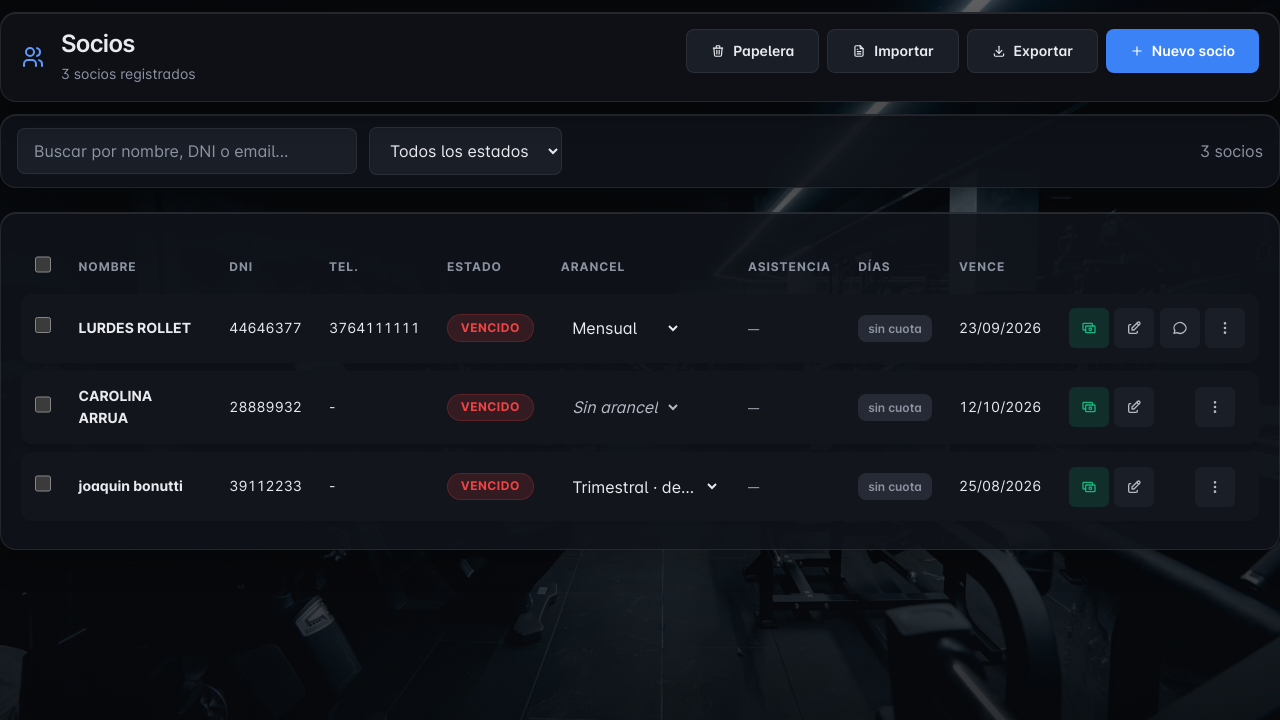
it: asignar el arancel a muchos de una vez › la barra aparece recién cuando hay algo marcado
Click the checkbox named "Seleccionar a LURDES ROLLET" at (43, 325), box [35, 317, 51, 333]
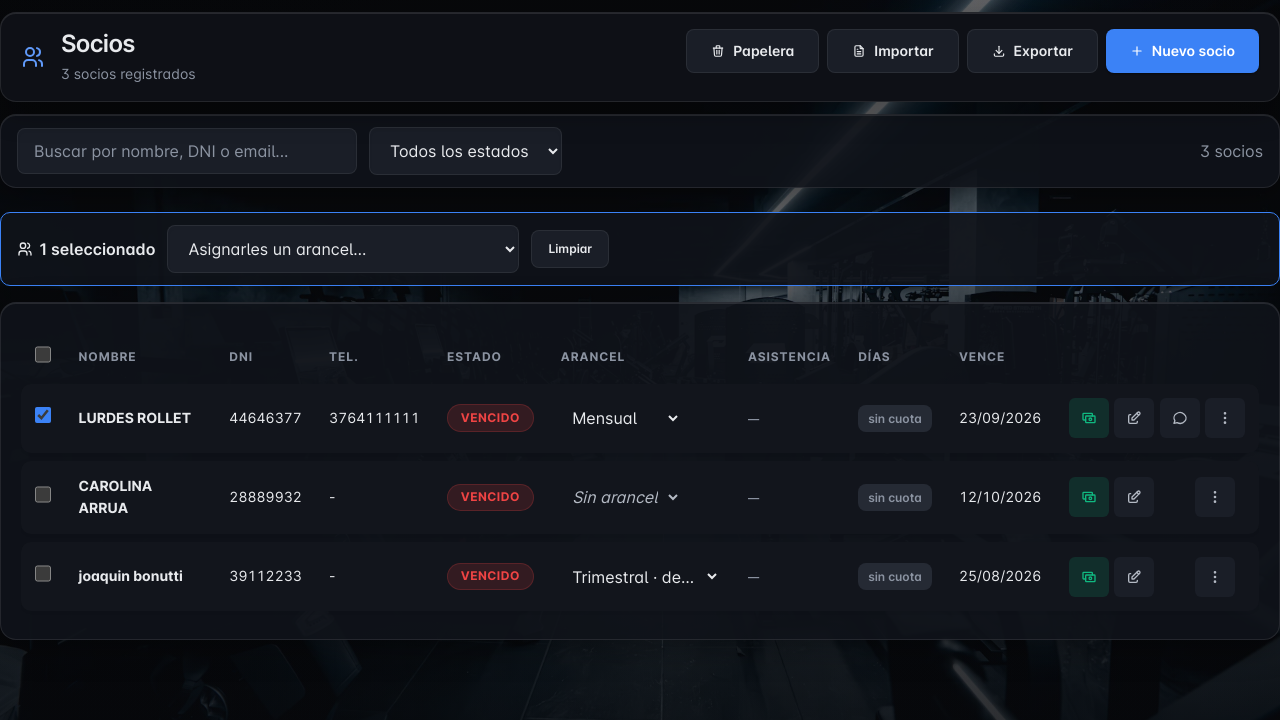
Now the dropdown with class "seleccion-arancel" is shown, box [167, 225, 519, 273]
Now the text "1 seleccionado" is shown, box [17, 237, 155, 262]
